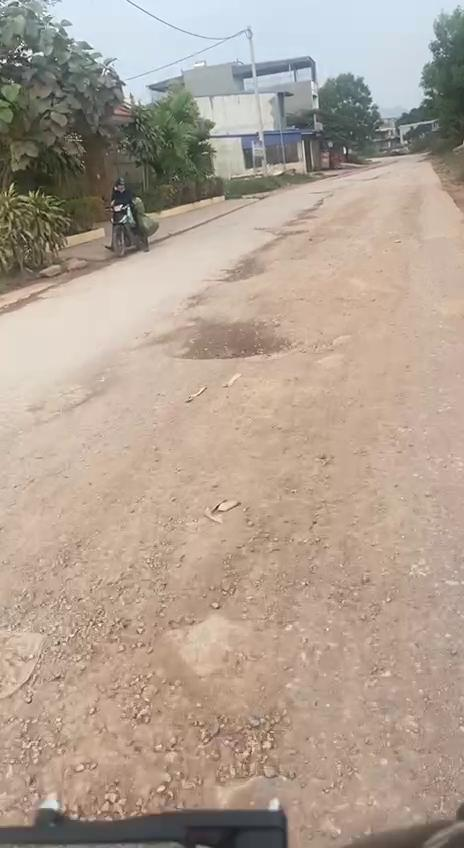pothole: (303, 236, 420, 362), (171, 307, 308, 364), (218, 251, 266, 284)
